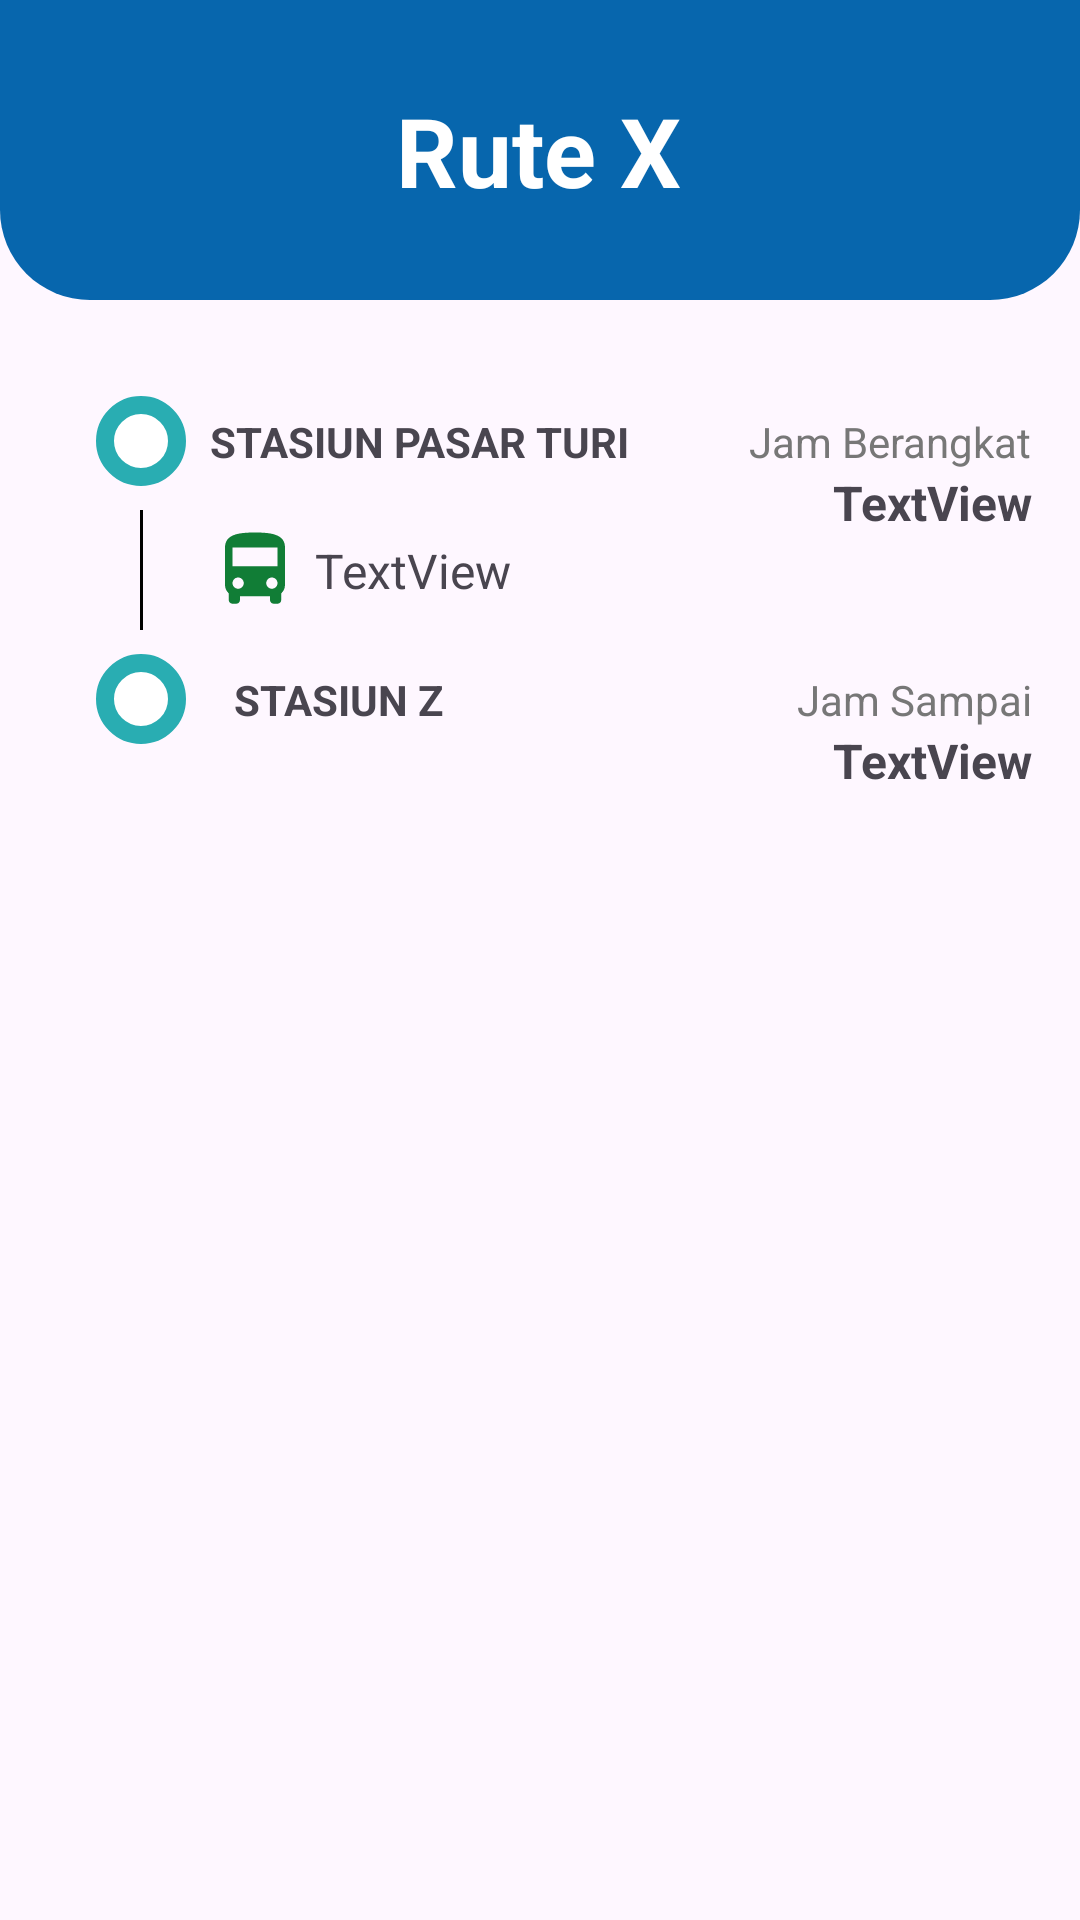

Screen size 1080w x 1920h. Icon name, then its center in pixels as point (x, y):
bus: point (255, 568)
circle track: point (141, 441), point (141, 699)
